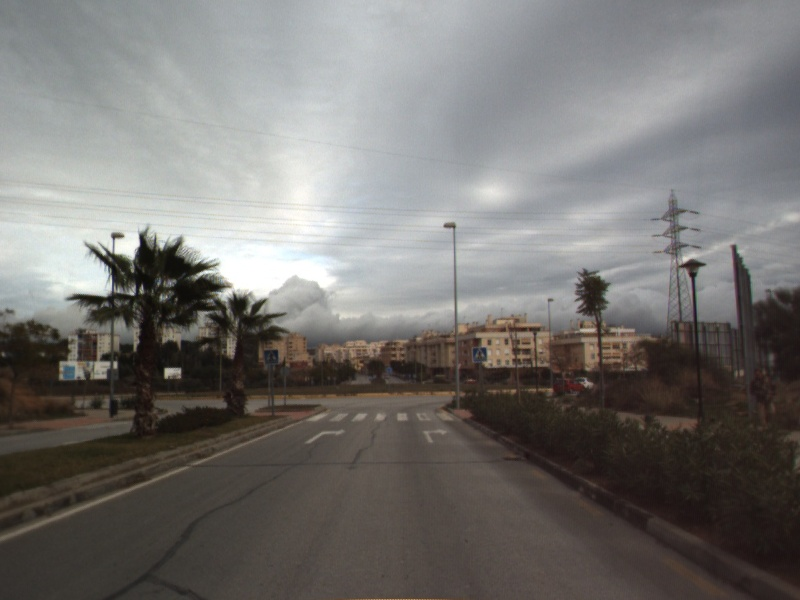RIGHT: (303, 426, 347, 445), (421, 426, 449, 445)
